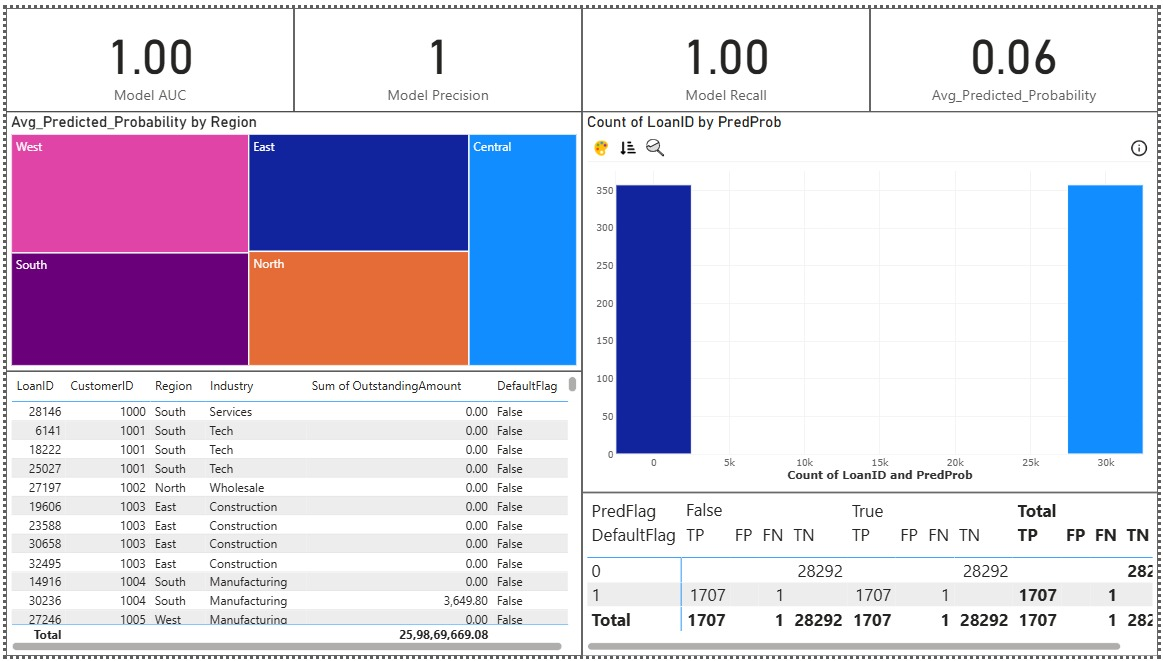

Layout of this report page (visuals, bound fields, positions):
{"tool":"powerbi","page":{"name":"Predictive Insights","canvas":[1280,720],"ordinal":2},"visuals":[{"type":"card","fields":{"Values":["ModelMatrics.Model AUC"]},"box":[90,8,200,106],"z":0},{"type":"card","fields":{"Values":["ModelMatrics.Model Precision"]},"box":[380,8,200,106],"z":1000},{"type":"card","fields":{"Values":["ModelMatrics.Model Recall"]},"box":[690,8,200,106],"z":2000},{"type":"card","fields":{"Values":["ConfusionMatrics.Avg_Predicted_Probability"]},"box":[990,6,200,106],"z":3000},{"type":"pieChart","fields":{"Category":["Customers.Region"],"Y":["ModelMatrics.Predicted_Default_Rate"]},"box":[644,122,630,292],"z":4000},{"type":"funnel","fields":{"Category":["Customers.Region"],"Y":["CountNonNull(Customers.Industry)"]},"box":[6,421,630,292],"z":5000},{"type":"clusteredColumnChart","fields":{"Category":["model_predictions.Region"],"Y":["ConfusionMatrics.Avg_Predicted_Probability"]},"box":[6,122,630,292],"z":6000},{"type":"areaChart","fields":{"Category":["Customers.Industry"],"Y":["ModelMatrics.Actual_Default_Rate","ModelMatrics.Predicted_Default_Rate"]},"box":[644,421,630,291.7],"z":7000}]}

Visuals, with their boxes in screenshot pixels (x1, y1, x2, y2), scaled from the page's 1280x720 canvas onto the 1163x661 screenshot:
card - ModelMatrics.Model AUC: {"left": 82, "top": 7, "right": 263, "bottom": 105}
card - ModelMatrics.Model Precision: {"left": 345, "top": 7, "right": 527, "bottom": 105}
card - ModelMatrics.Model Recall: {"left": 627, "top": 7, "right": 809, "bottom": 105}
card - ConfusionMatrics.Avg_Predicted_Probability: {"left": 900, "top": 6, "right": 1081, "bottom": 103}
pieChart - Customers.Region x ModelMatrics.Predicted_Default_Rate: {"left": 585, "top": 112, "right": 1158, "bottom": 380}
funnel - Customers.Region x CountNonNull(Customers.Industry): {"left": 5, "top": 387, "right": 578, "bottom": 655}
clusteredColumnChart - model_predictions.Region x ConfusionMatrics.Avg_Predicted_Probability: {"left": 5, "top": 112, "right": 578, "bottom": 380}
areaChart - Customers.Industry x ModelMatrics.Actual_Default_Rate: {"left": 585, "top": 387, "right": 1158, "bottom": 654}
